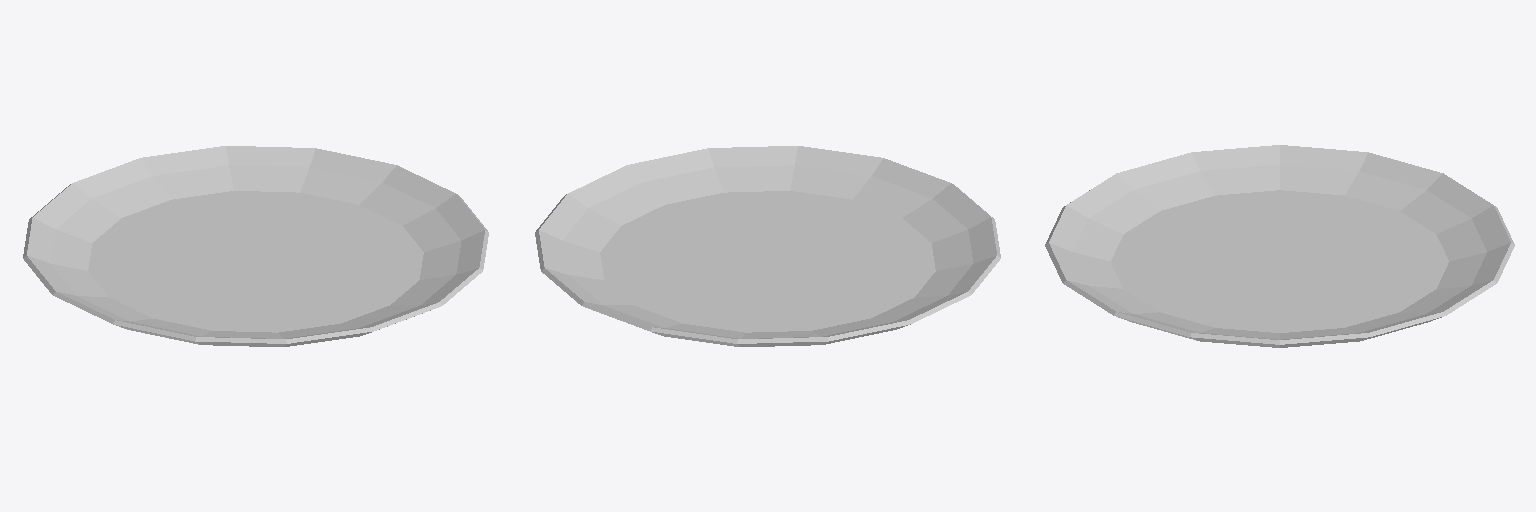
Rendered from Plate.obj.
3 renders of one model, left to right at view 1: azimuth 30°, elevation 25°; view 2: azimuth 150°, elevation 25°; view 3: azimuth 270°, elevation 25°, orthographic.
Parts seen in each view (by area): view 1: pSphere14; view 2: pSphere14; view 3: pSphere14.
Boxes of the visible parts, x1,y1,x2,y2 form: pSphere14: [23, 146, 488, 346]; pSphere14: [535, 146, 1000, 346]; pSphere14: [1045, 145, 1514, 347].
Size of the model in its own units: 4.4 by 0.2772 by 4.4.